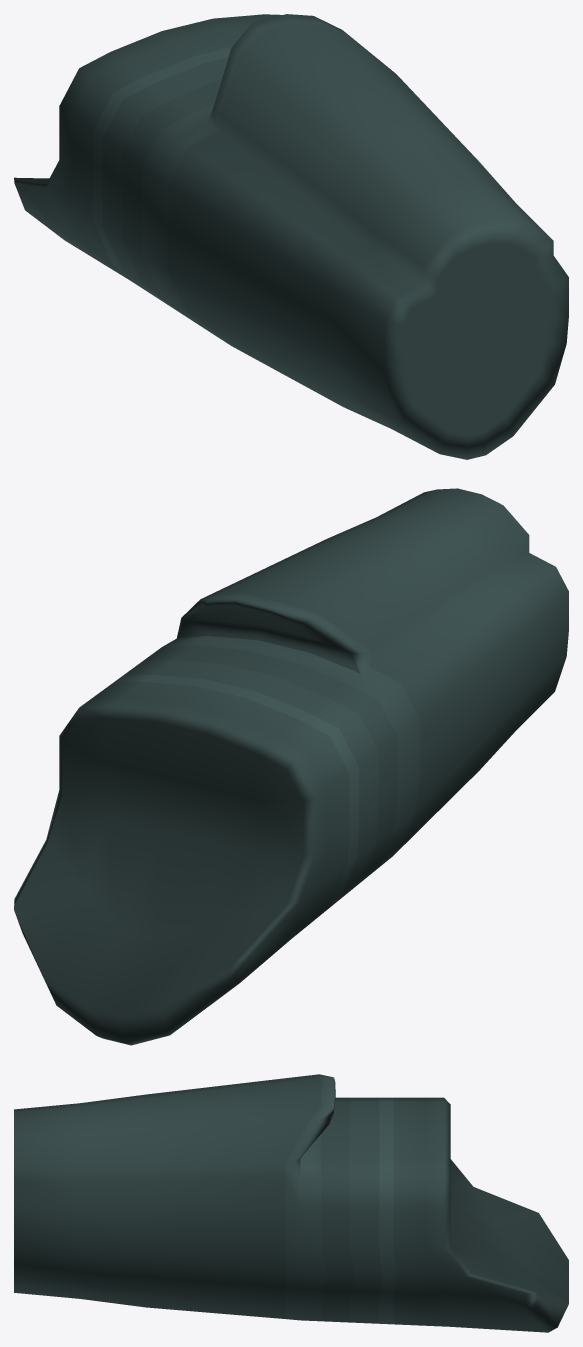
File: AlienPillar.006.glb
3 renders of one model, top to bottom at view 1: azimuth 30°, elevation 25°; view 2: azimuth 150°, elevation 25°; view 3: azimuth 270°, elevation 25°, orthographic. The views are drawn at different scales.
Visible parts, largest first — view 1: AlienPillar.006; view 2: AlienPillar.006; view 3: AlienPillar.006.
Part boxes in pixels (x1,y1,x2,y2): AlienPillar.006: [14, 14, 568, 459]; AlienPillar.006: [14, 488, 568, 1045]; AlienPillar.006: [14, 1074, 568, 1332].
Bounding box in the file's own units: 1774 × 2196 × 4473.
